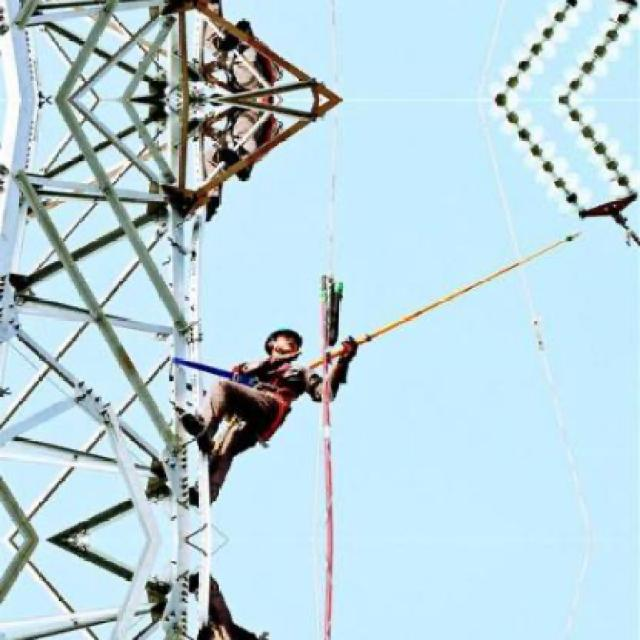sin casco: (228, 318, 336, 398)
